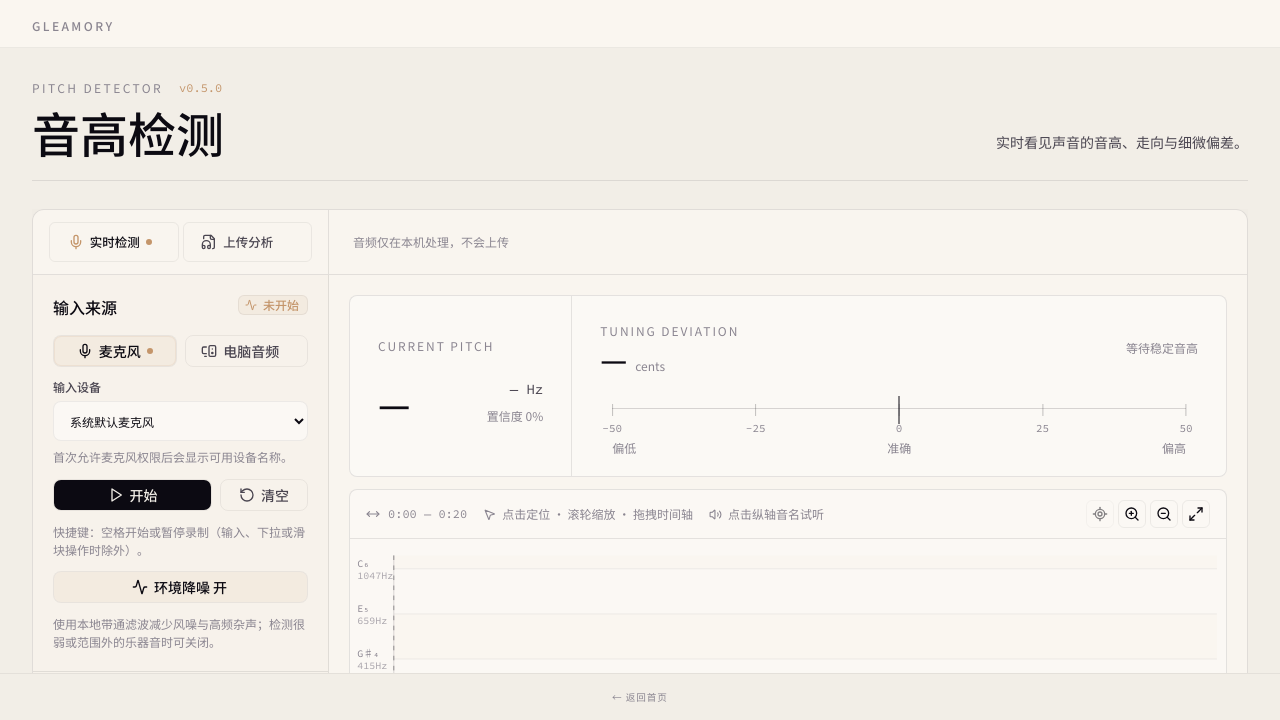
Scenario: PitchDetectorPage › switches from live detection to upload analysis
The width and height of the screenshot is (1280, 720).
Expected: the heading "音高检测" is shown, [32,97,224,167]
Expected: the text "v0.5.0" is shown, [179,80,222,96]
Click the button "电脑音频" at (246, 351), box [184,335,308,367]
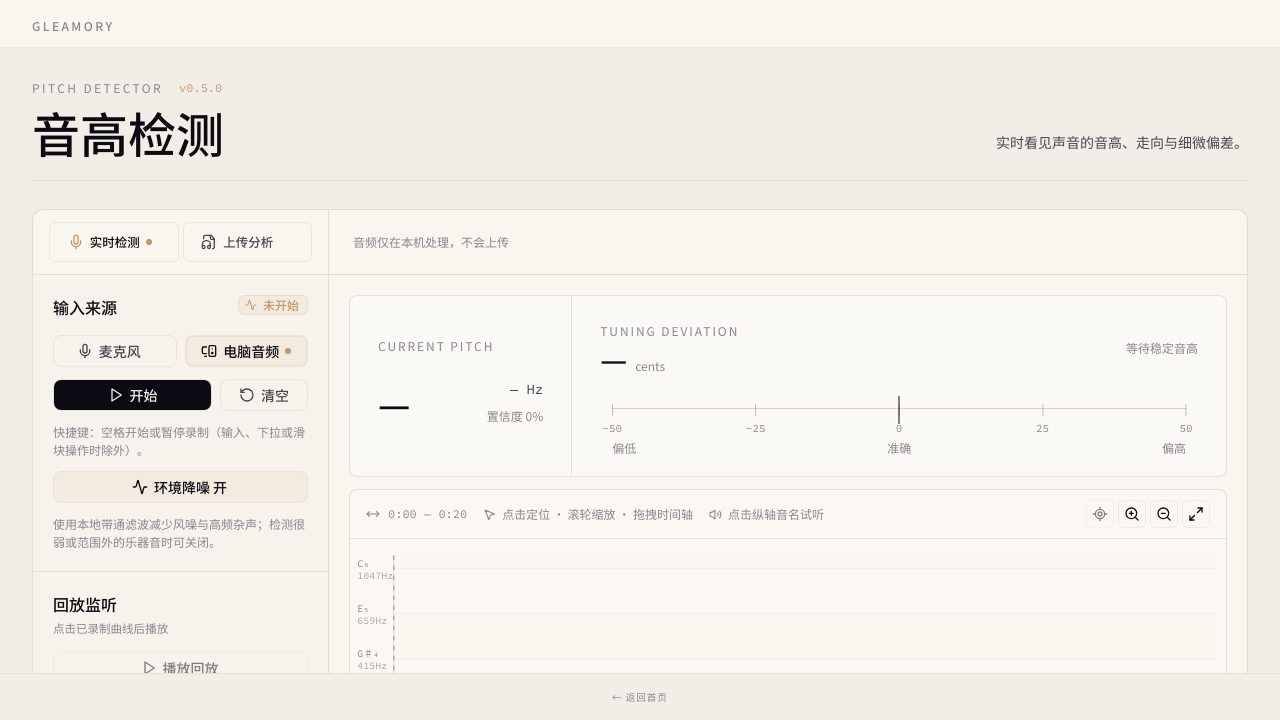
Expected: the button "麦克风" is not pressed, [53,335,176,367]
Expected: the button "电脑音频" is pressed, [184,335,308,367]
Click the tab "上传分析" at (247, 242), box [182,222,312,262]
(page scrolled)
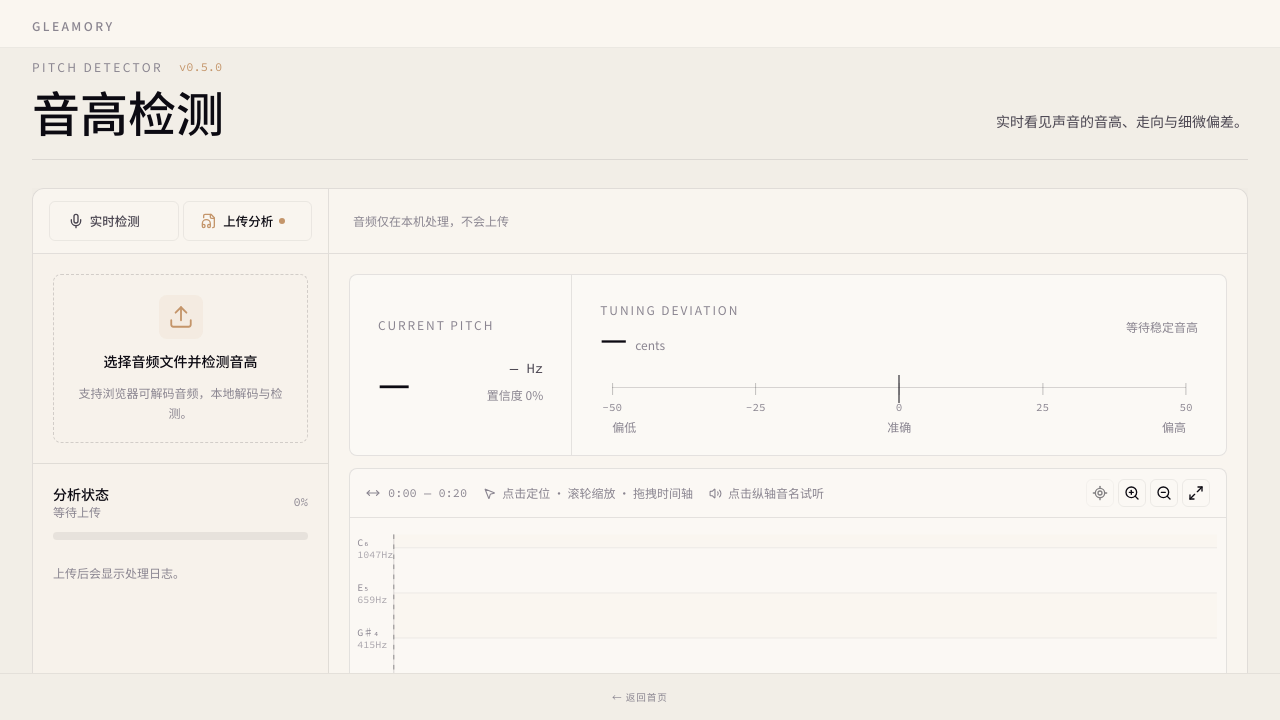
Expected: the text "选择音频文件并检测音高" is shown, [104,351,258,371]
